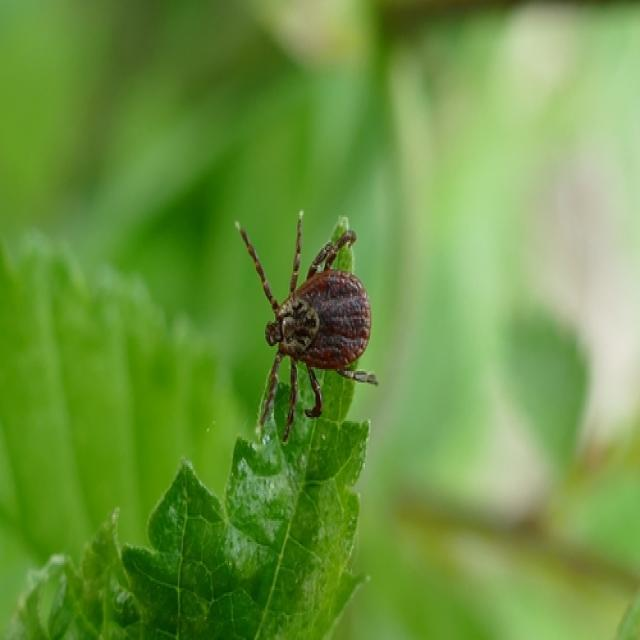Dermacentor Reticulatus-F: (234, 209, 379, 446)
